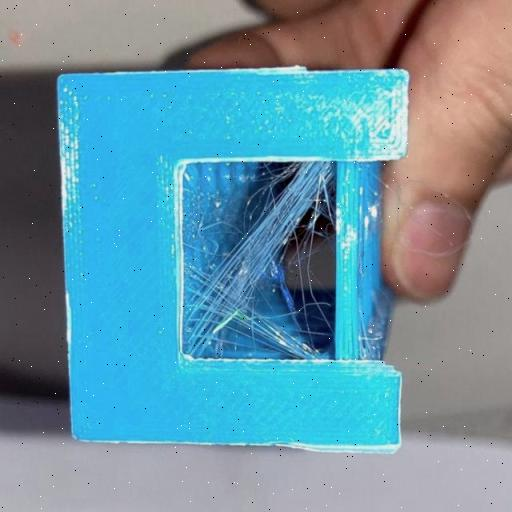stringing: (183, 163, 330, 354), (187, 265, 315, 359)
